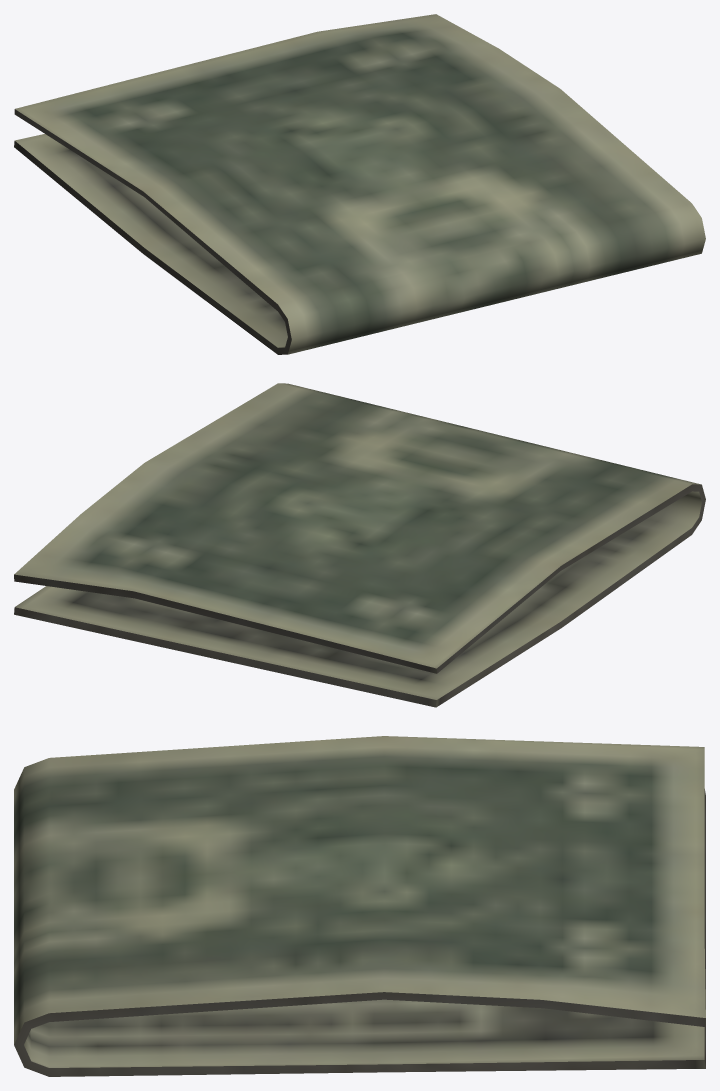
File: cash_3_1.obj
3 renders of one model, top to bottom at view 1: azimuth 30°, elevation 25°; view 2: azimuth 150°, elevation 25°; view 3: azimuth 270°, elevation 25°, orthographic. The views are drawn at different scales.
Parts seen in each view (by area): view 1: cash_3_1; view 2: cash_3_1; view 3: cash_3_1.
Boxes of the visible parts, box(x1,y1,x2,y2) form: cash_3_1: box(14, 14, 705, 354); cash_3_1: box(14, 383, 705, 707); cash_3_1: box(14, 736, 705, 1076).
Bounding box in the file's own units: 0.1051 × 0.0161 × 0.118.
